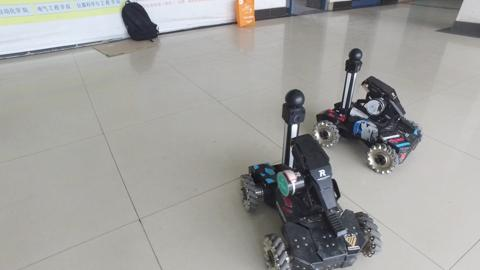chariot: (231, 89, 386, 270), (304, 46, 428, 173)
